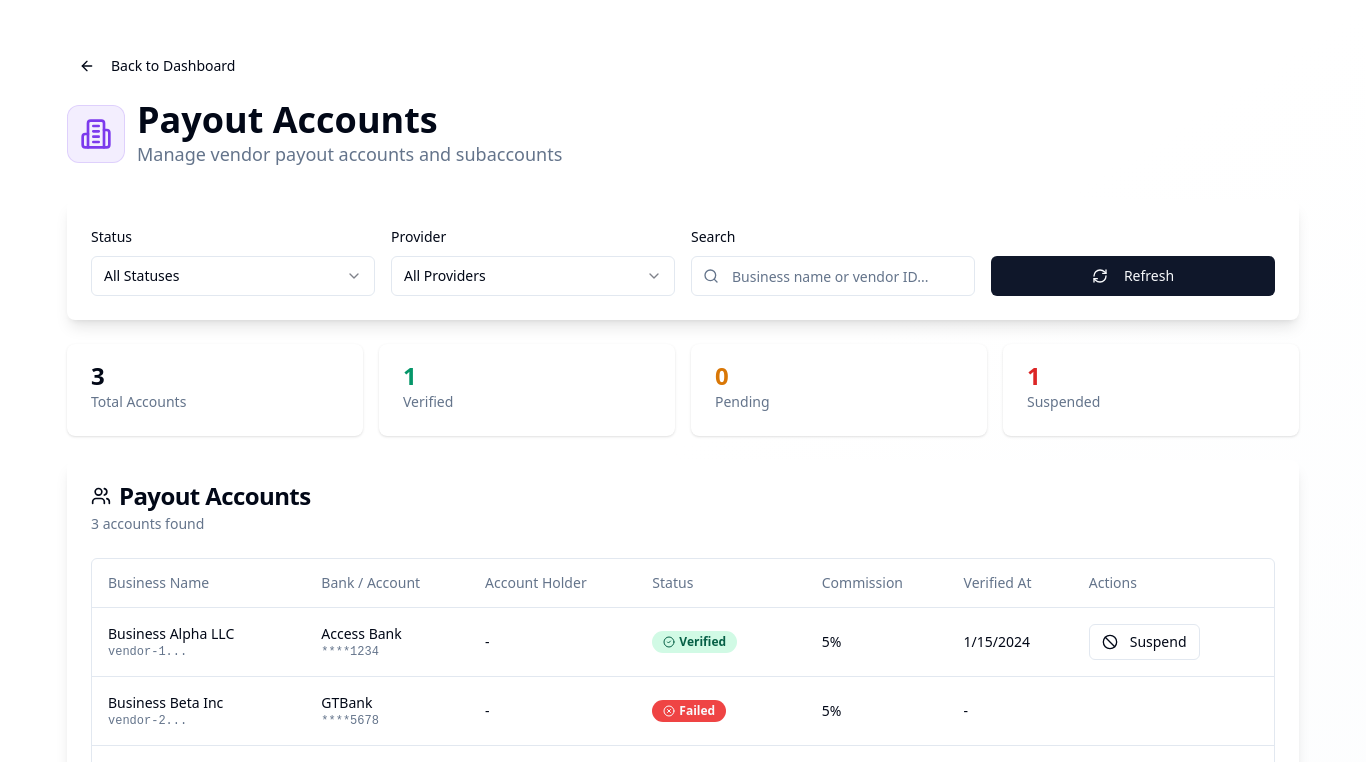
Scenario: AdminPayoutAccounts › Search › searches accounts by business name
Type "Alpha" into the field with placeholder "Business name or vendor ID..." at (833, 276), box [691, 256, 975, 296]
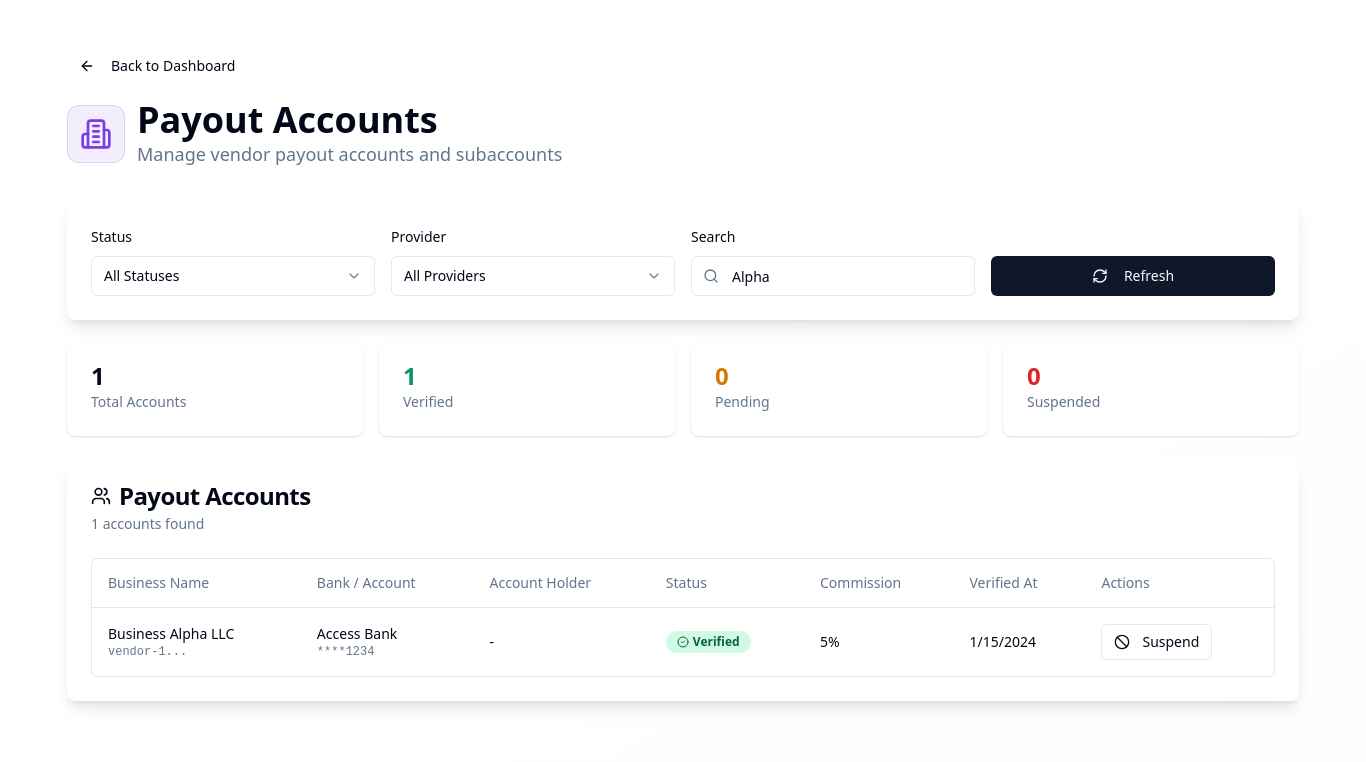
Expected: the text "Business Alpha LLC vendor-1..." is shown, [92, 607, 301, 676]
Result: the text "Business Beta Inc" is gone
